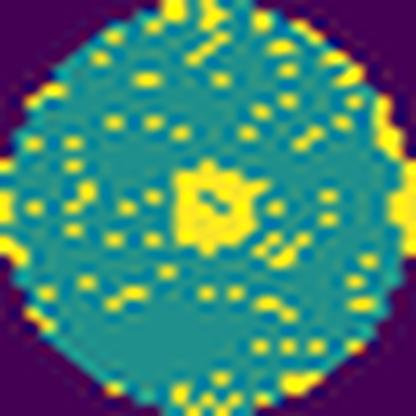Center: (165, 160, 276, 258)
